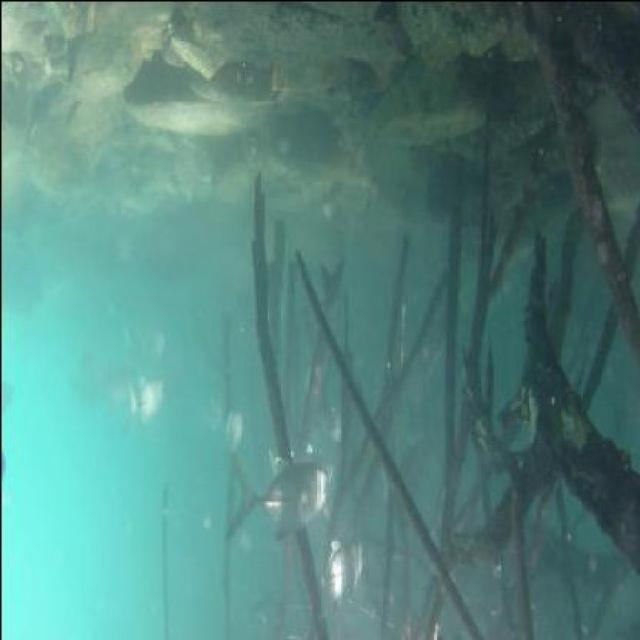Caranx_sexfasciatus_juvenile: (226, 450, 332, 533), (68, 348, 138, 422), (312, 529, 371, 609), (122, 358, 167, 434), (116, 310, 172, 365), (299, 389, 341, 451), (220, 400, 248, 458)
